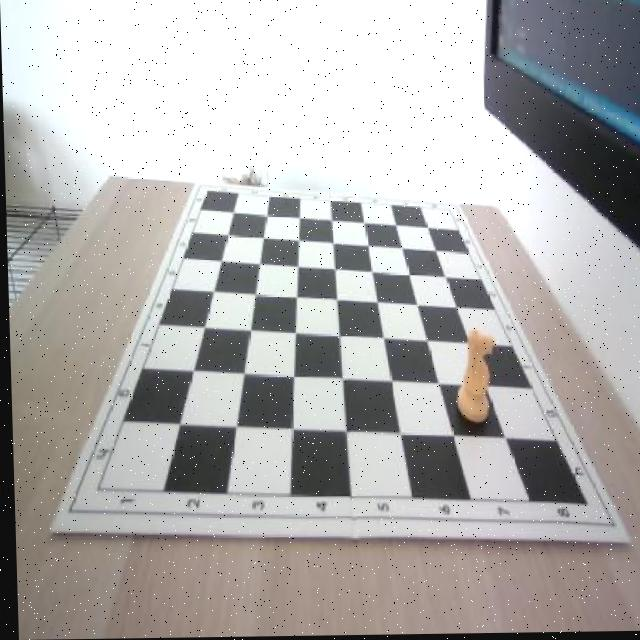white-king: (451, 328, 495, 424)
